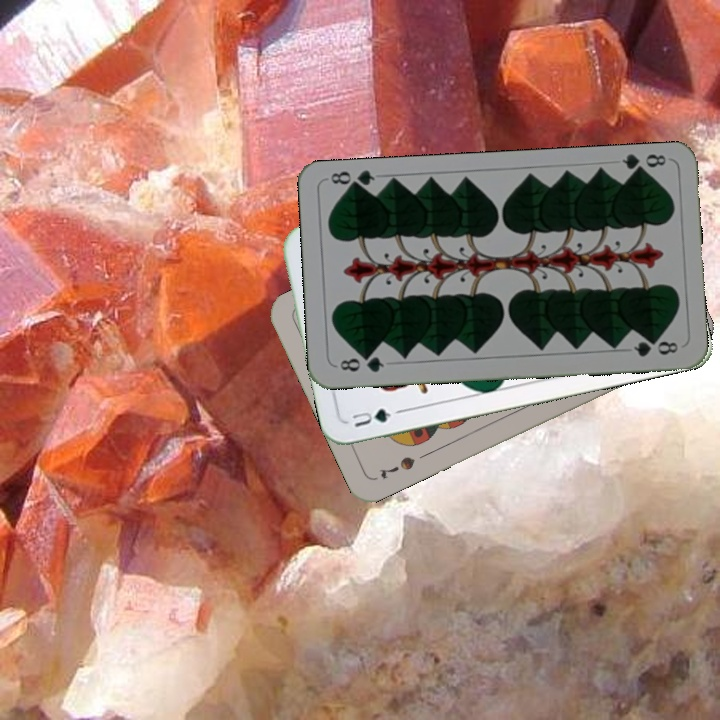G8: (618, 150, 668, 178), (336, 351, 387, 375)
GU: (346, 404, 394, 430)
S7: (374, 452, 418, 482)
